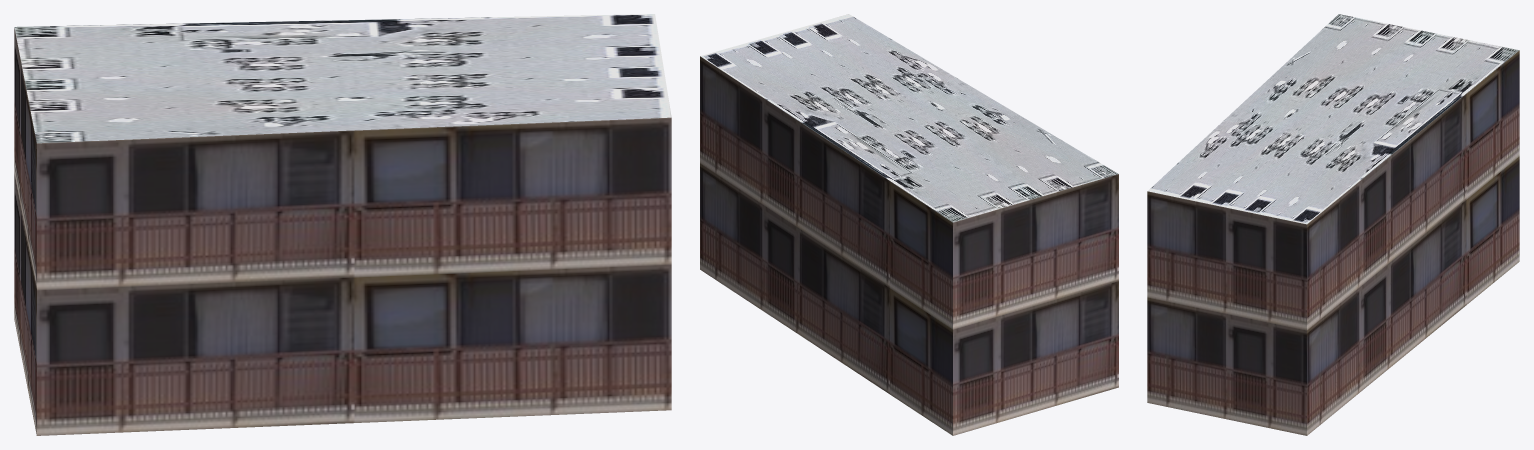
The model's file is ResTex__572.fbx.
3 renders of one model, left to right at view 1: azimuth 30°, elevation 25°; view 2: azimuth 150°, elevation 25°; view 3: azimuth 270°, elevation 25°, orthographic. The views are drawn at different scales.
Visible parts, largest first — view 1: CityEngineMaterial_6_m, CityEngineMaterial_8_m; view 2: CityEngineMaterial_6_m, CityEngineMaterial_8_m; view 3: CityEngineMaterial_6_m, CityEngineMaterial_8_m.
Part boxes in pixels (box(x1,y1,x2,y2)): CityEngineMaterial_6_m: box(14, 28, 671, 435); CityEngineMaterial_8_m: box(14, 14, 671, 143); CityEngineMaterial_6_m: box(700, 56, 1118, 435); CityEngineMaterial_8_m: box(700, 14, 1118, 222); CityEngineMaterial_6_m: box(1147, 50, 1519, 435); CityEngineMaterial_8_m: box(1148, 14, 1519, 224).
Bounding box in the file's own units: 12.79 × 6 × 9.56.
Materials: 2 (2 with a texture image).
